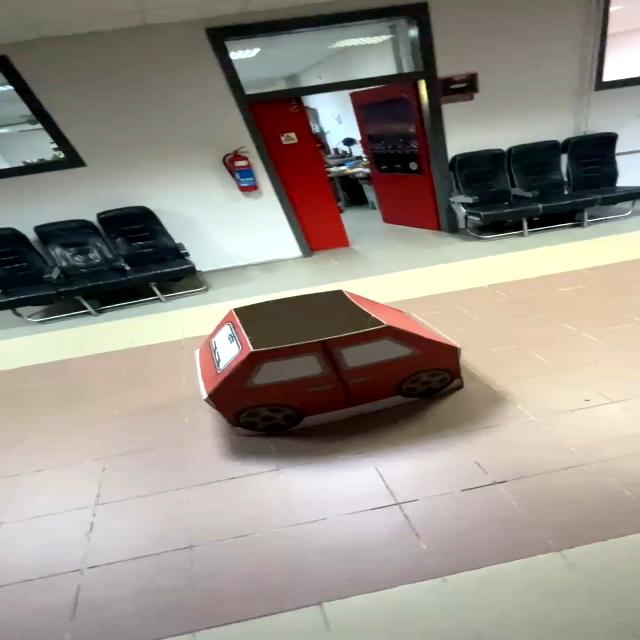red_car: (144, 272, 514, 461)
